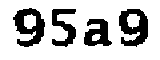5: (49, 6, 81, 50)
9: (115, 6, 154, 51), (10, 6, 47, 49)
a: (80, 17, 112, 50)
